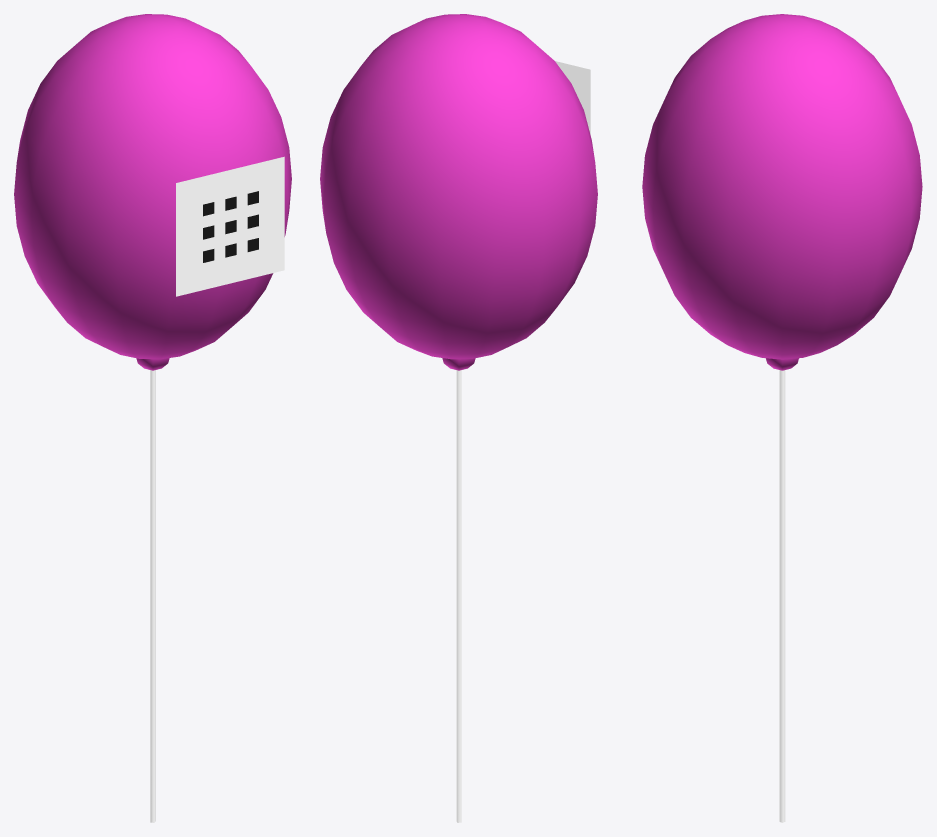
File: balloon-magenta.glb
3 renders of one model, left to right at view 1: azimuth 30°, elevation 25°; view 2: azimuth 150°, elevation 25°; view 3: azimuth 270°, elevation 25°, orthographic.
Size of the model in its own units: 0.76 by 2.39 by 0.803.
